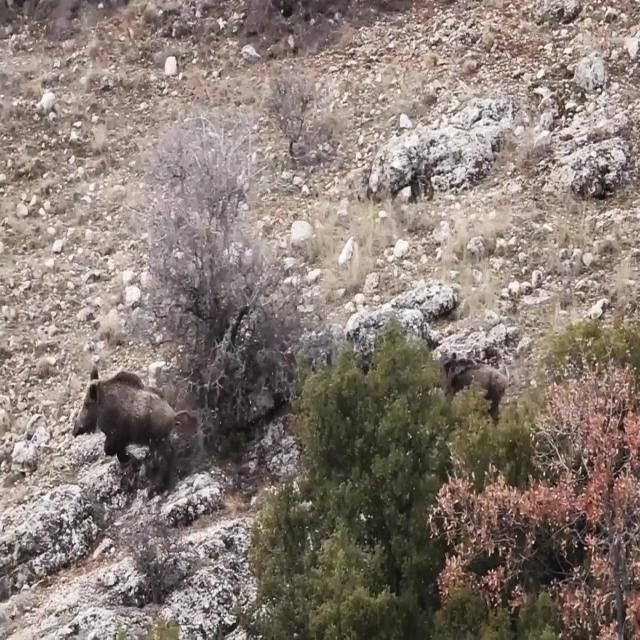pig: (72, 354, 174, 480)
